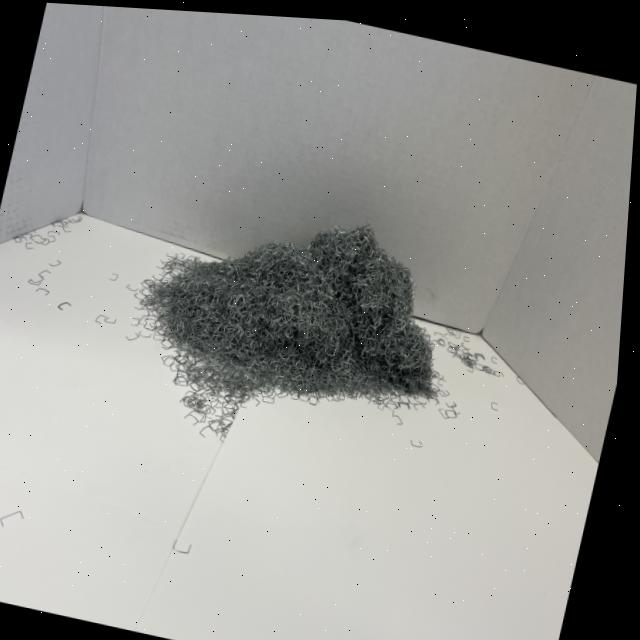staples: (99, 173, 473, 488)
